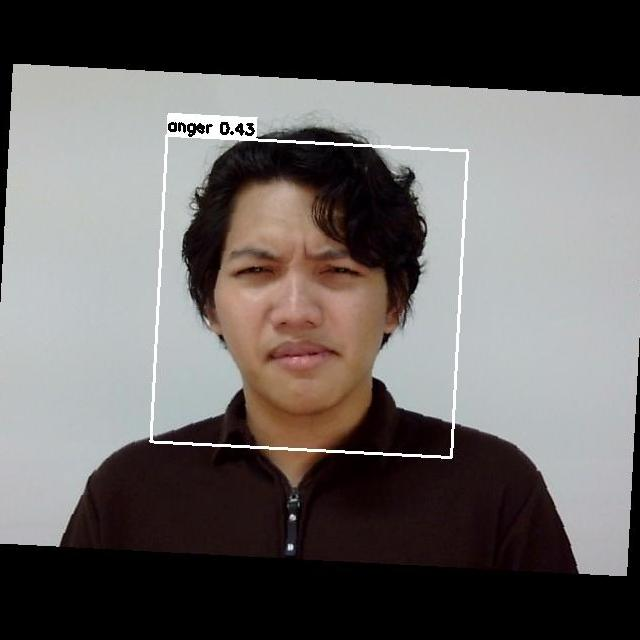Disgust: (199, 207, 399, 391)
